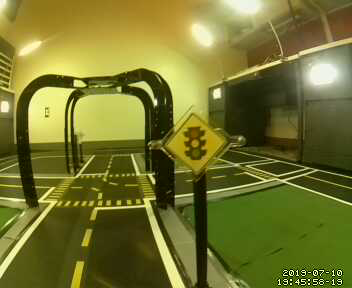Traffic light sign: (162, 110, 226, 175)
